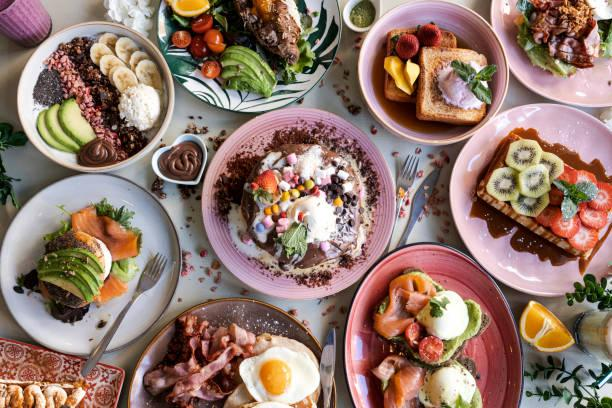Braised Crucian Carp: (201, 106, 384, 297), (2, 172, 185, 349), (448, 102, 612, 297), (345, 240, 528, 408), (15, 15, 178, 177), (353, 2, 512, 142), (127, 297, 326, 404), (156, 0, 332, 114)
